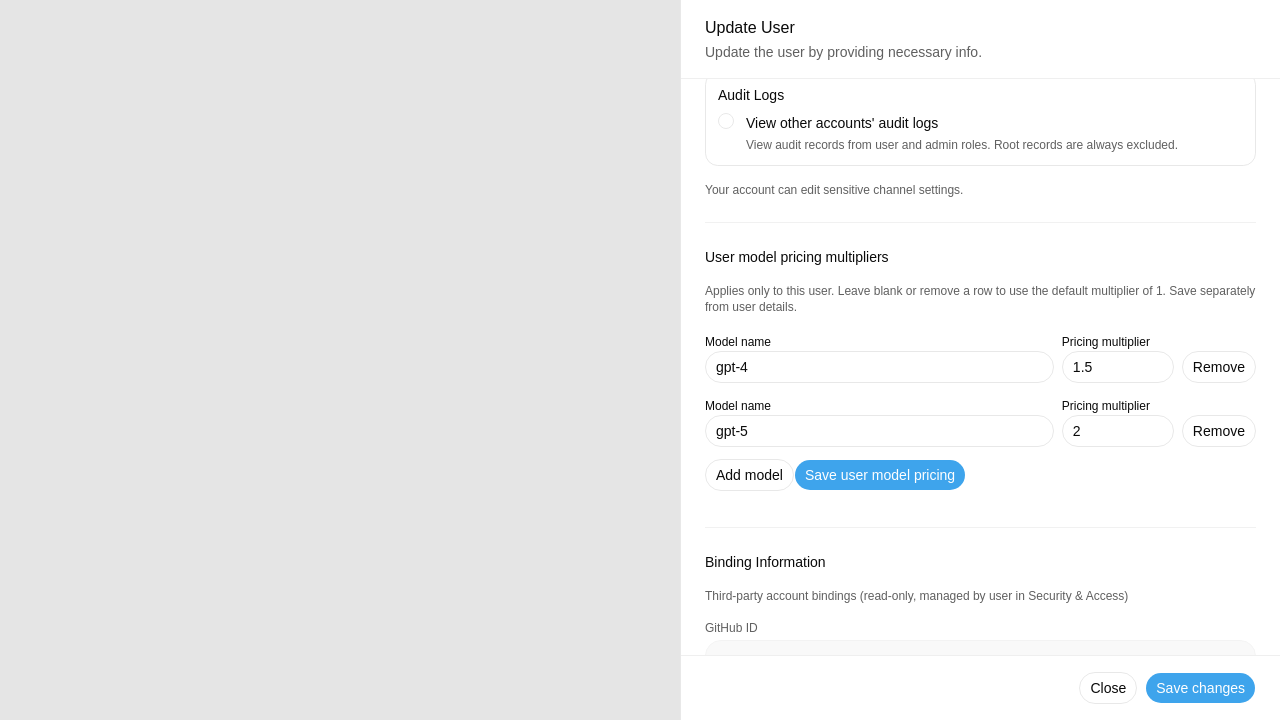
Test: rejects invalid user multiplier -1 before sending
(page scrolled)
Replace the text in the 1st field labelled "Pricing multiplier" with "-1": (1118, 367) [1062,351,1174,383]
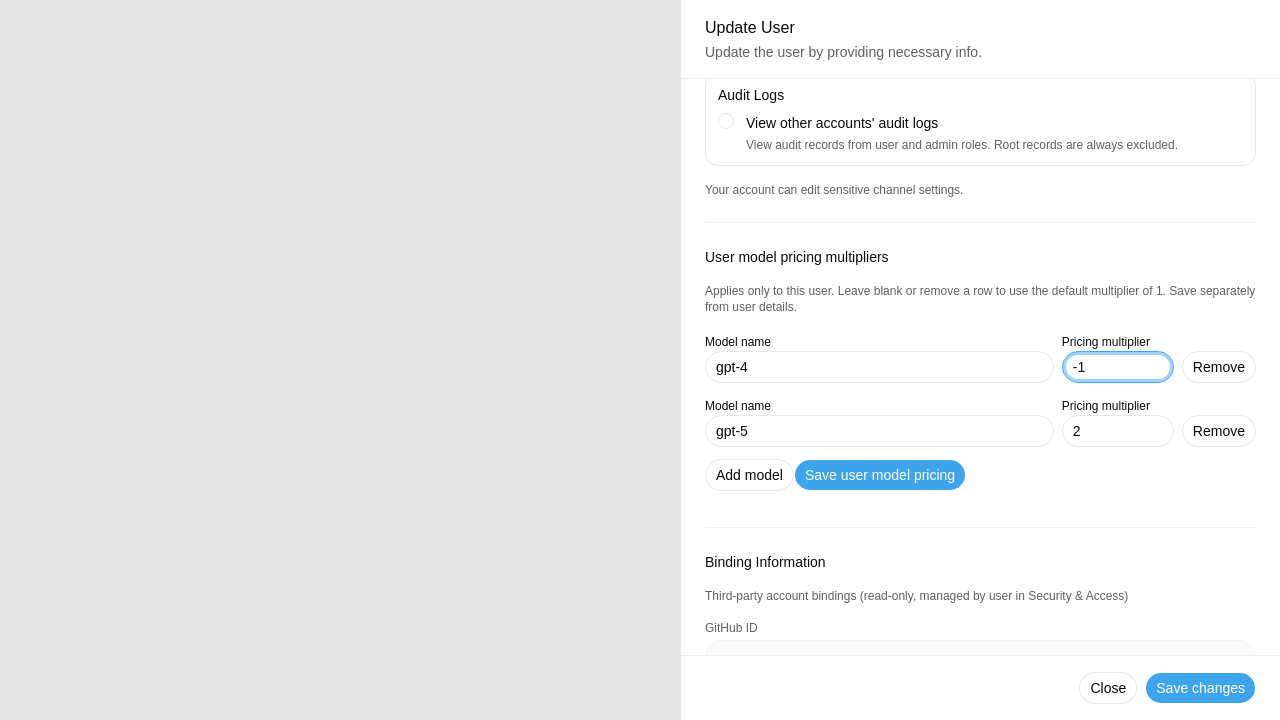
Click the button "Save user model pricing": (880, 475) [794,459,966,491]
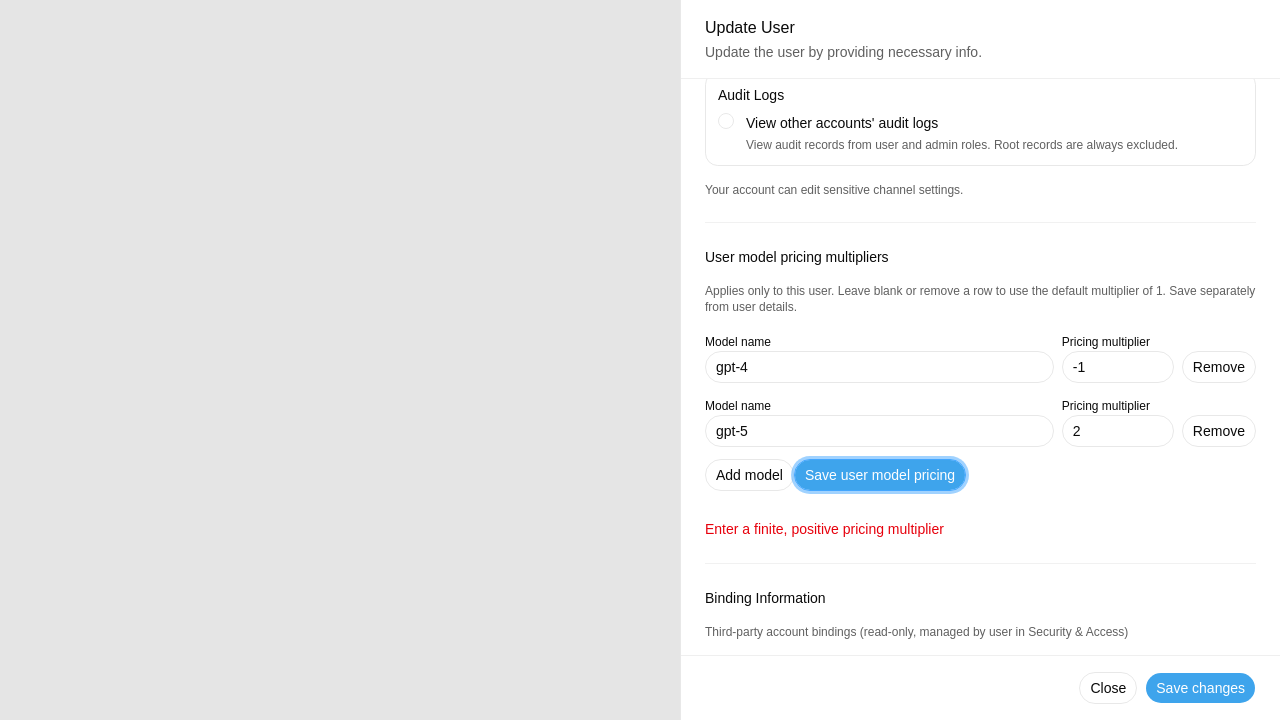
Expected: the message reads "Enter a finite, positive pricing multiplier", [705,521,944,537]
